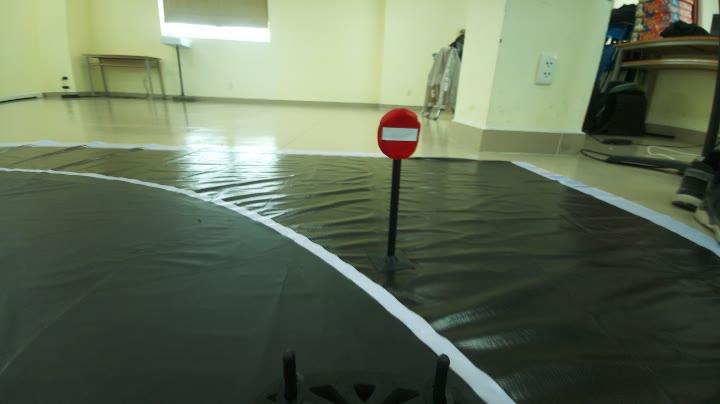no_entry: (373, 102, 442, 171)
